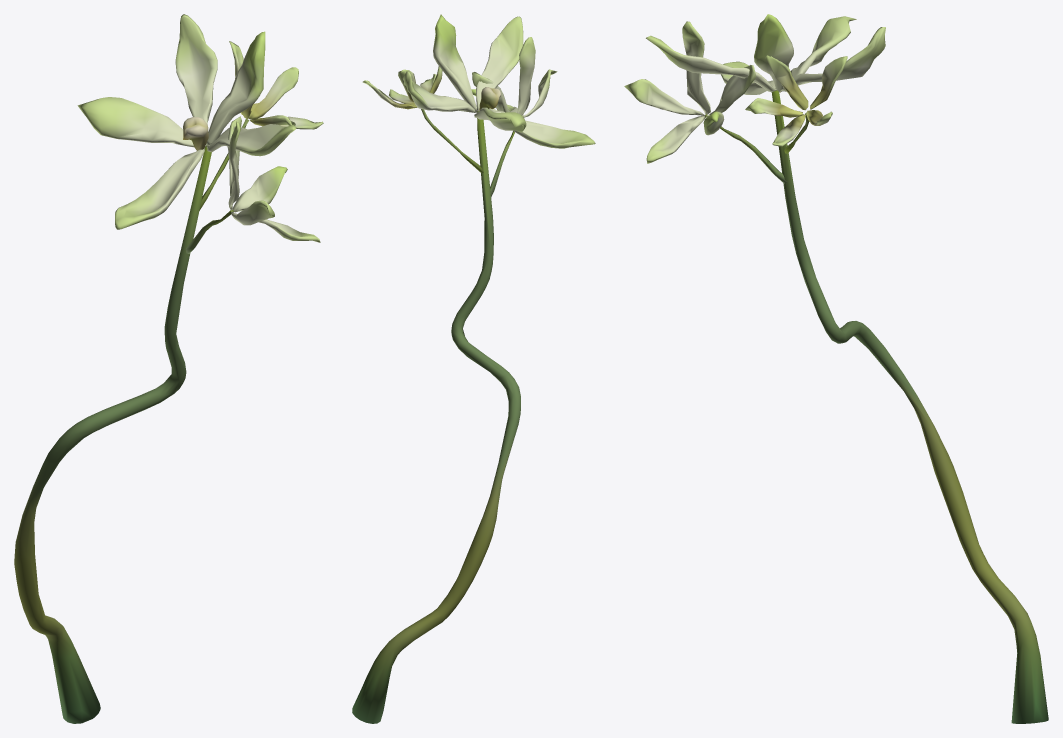
3 views of the same model, side by side, from view 1: azimuth 30°, elevation 25°; view 2: azimuth 150°, elevation 25°; view 3: azimuth 270°, elevation 25° (orthographic). The views are drawn at different scales.
Parts seen in each view (by area): view 1: LOD 1_7598556c-190f-51c2-9c27-77094a5ef6d8; view 2: LOD 1_7598556c-190f-51c2-9c27-77094a5ef6d8; view 3: LOD 1_7598556c-190f-51c2-9c27-77094a5ef6d8.
Part boxes in pixels (left/top/right/bottom): LOD 1_7598556c-190f-51c2-9c27-77094a5ef6d8: left=14, top=14, right=323, bottom=723; LOD 1_7598556c-190f-51c2-9c27-77094a5ef6d8: left=352, top=14, right=595, bottom=723; LOD 1_7598556c-190f-51c2-9c27-77094a5ef6d8: left=624, top=14, right=1048, bottom=723.
Bounding box in the file's own units: 4.96 × 15.48 × 8.12.
